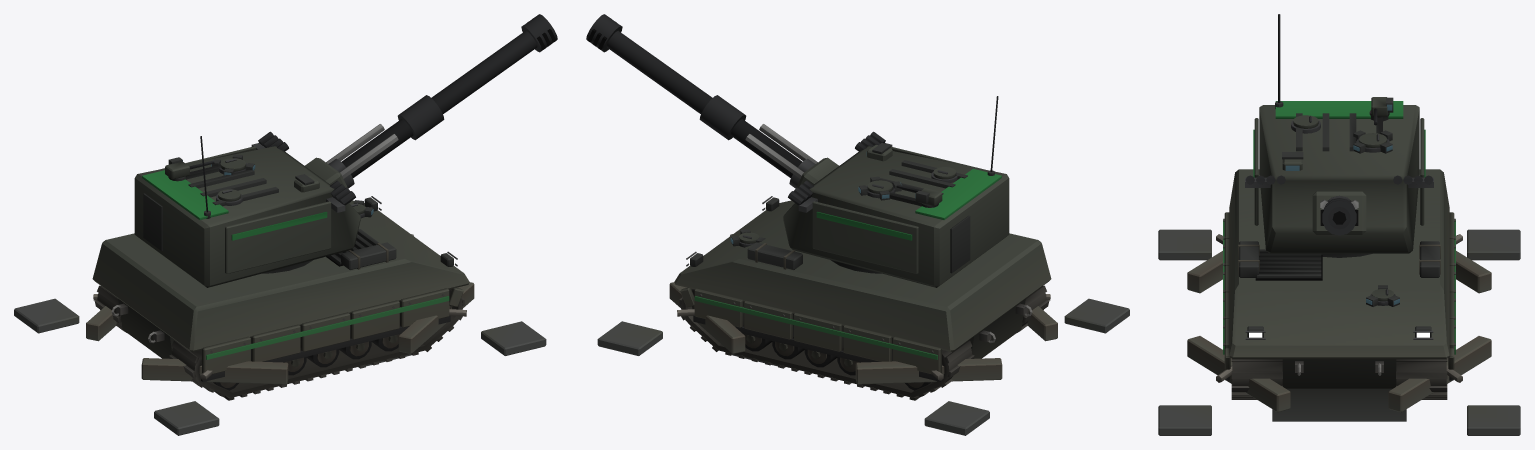
The model's file is u_arty.glb.
3 views of the same model, side by side, from view 1: azimuth 30°, elevation 25°; view 2: azimuth 150°, elevation 25°; view 3: azimuth 270°, elevation 25° (orthographic). The views are drawn at different scales.
Visible parts, largest first — view 1: Arty_turret, Arty_Walls, Arty_spade, Arty_Details, Arty_Foundation, Arty_Frame; view 2: Arty_turret, Arty_Walls, Arty_spade, Arty_Details, Arty_Foundation, Arty_Frame; view 3: Arty_Walls, Arty_turret, Arty_spade, Arty_Details, Arty_Frame, Arty_Foundation.
Boxes of the visible parts, bbox=[...] form: Arty_turret: bbox=[134, 14, 557, 287]; Arty_Walls: bbox=[92, 200, 469, 374]; Arty_spade: bbox=[14, 282, 546, 435]; Arty_Details: bbox=[94, 196, 465, 400]; Arty_Foundation: bbox=[97, 289, 462, 397]; Arty_Frame: bbox=[199, 334, 411, 387]; Arty_turret: bbox=[586, 14, 1009, 287]; Arty_Walls: bbox=[674, 200, 1051, 374]; Arty_spade: bbox=[597, 282, 1129, 435]; Arty_Details: bbox=[678, 196, 1049, 400]; Arty_Foundation: bbox=[681, 289, 1046, 397]; Arty_Frame: bbox=[732, 334, 944, 387]; Arty_Walls: bbox=[1224, 169, 1454, 388]; Arty_turret: bbox=[1245, 14, 1433, 257]; Arty_spade: bbox=[1158, 229, 1520, 435]; Arty_Details: bbox=[1223, 218, 1455, 399]; Arty_Frame: bbox=[1272, 388, 1406, 421]; Arty_Foundation: bbox=[1232, 361, 1446, 392].
Size of the model in its own units: 1.74 by 1.01 by 1.08.
